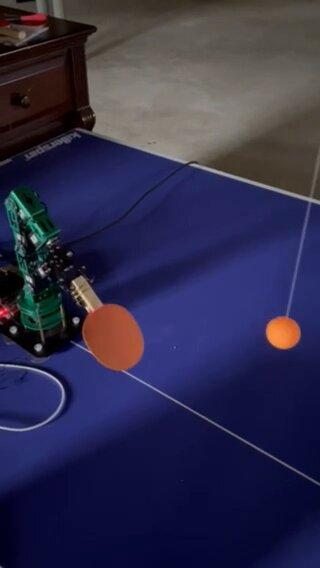oball: (266, 314, 299, 348)
